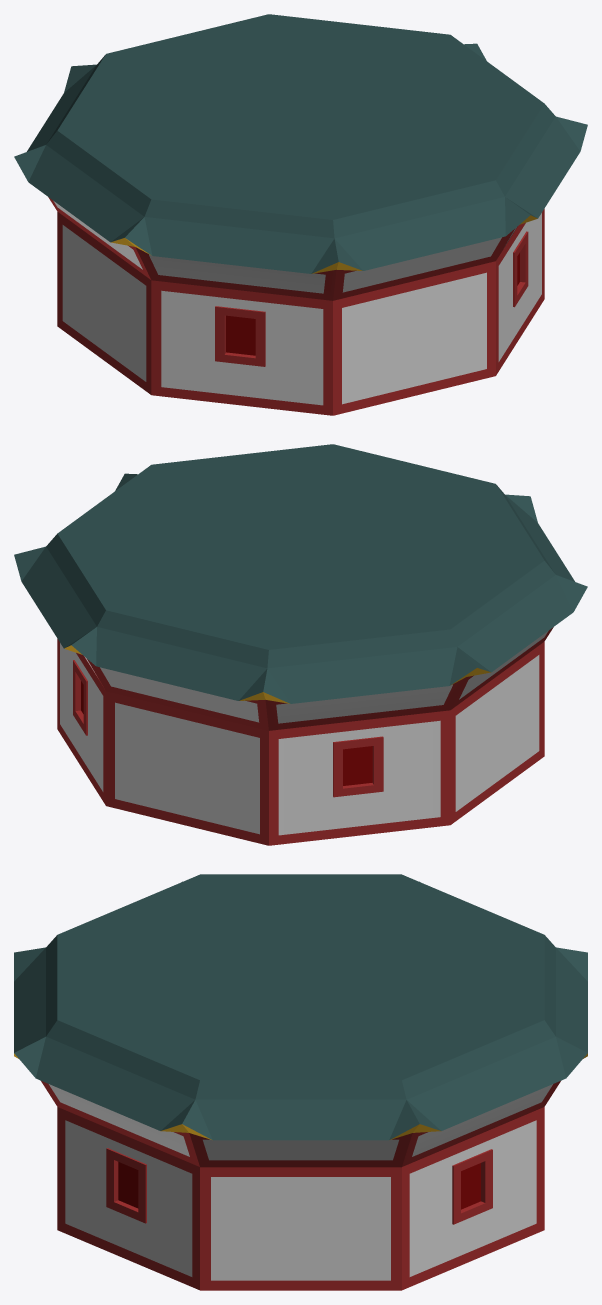
File: Asian_Building_Temple_Pagoda_02.FBX
The picture shows the model from 3 angles, top to bottom: view 1: azimuth 30°, elevation 25°; view 2: azimuth 150°, elevation 25°; view 3: azimuth 270°, elevation 25°; orthographic projection. The views are drawn at different scales.
Visible parts, largest first — view 1: Asian_Building_Temple_Pagoda_02; view 2: Asian_Building_Temple_Pagoda_02; view 3: Asian_Building_Temple_Pagoda_02.
Boxes of the visible parts, left/top/right/bottom form: Asian_Building_Temple_Pagoda_02: left=14, top=14, right=587, bottom=415; Asian_Building_Temple_Pagoda_02: left=14, top=444, right=587, bottom=845; Asian_Building_Temple_Pagoda_02: left=14, top=874, right=587, bottom=1290.
Bounding box in the file's own units: 14699 × 5938 × 14699.
